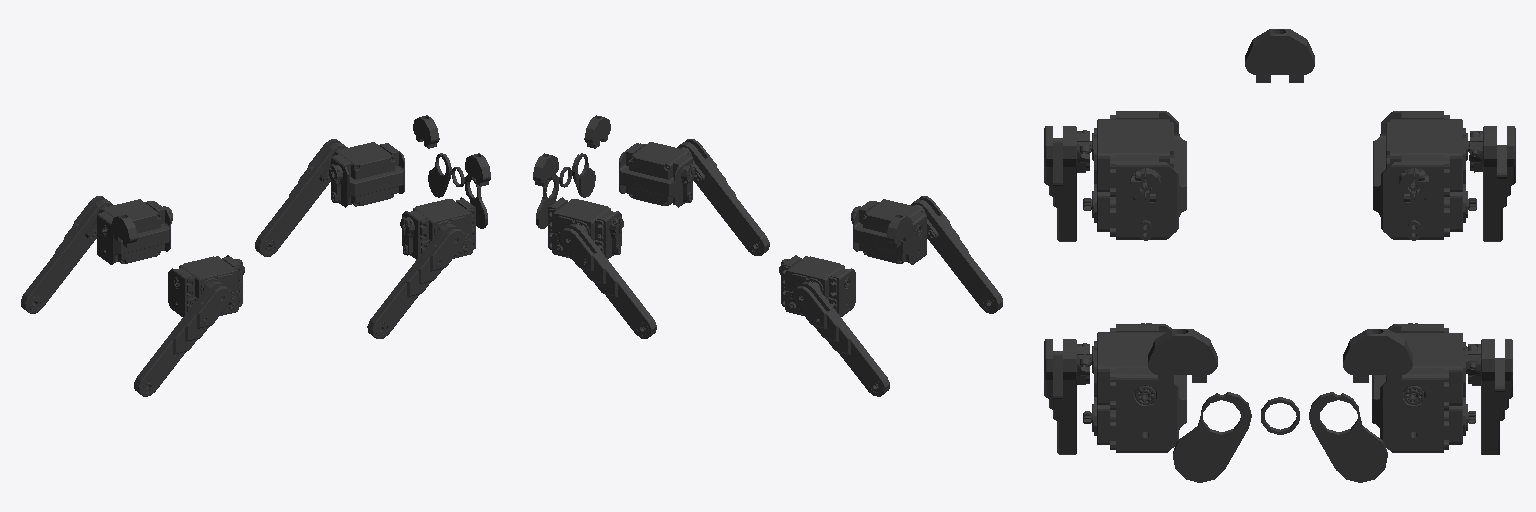
URDF robot description (rds-2p):
<robot name="rds-2p" version="1.0">
  <joint name="leg_block_bl_joint" type="revolute">
    <limit lower="-0.959931" upper="1.745329" effort="4.160000" velocity="8.700000"/>
    <origin rpy="1.570796 0.000000 1.570796" xyz="-0.135944 0.061964 0.002448"/>
    <parent link="base_link"/>
    <child link="leg_block_bl_link"/>
    <axis xyz="0.000000 0.000000 1.000000"/>
  </joint>
  <joint name="hip_bl_joint" type="revolute">
    <limit lower="-1.047200" upper="1.047200" effort="4.160000" velocity="8.700000"/>
    <origin rpy="1.570796 0.785398 -1.570796" xyz="0.031501 -0.000292 -0.008541"/>
    <parent link="leg_block_bl_link"/>
    <child link="hip_bl_link"/>
    <axis xyz="0.000000 0.000000 -1.000000"/>
  </joint>
  <joint name="shin_fl_joint" type="revolute">
    <limit lower="-1.134464" upper="0.523599" effort="4.160000" velocity="8.700000"/>
    <origin rpy="-0.000000 -0.000000 2.356194" xyz="-0.099981 0.000046 0.005059"/>
    <parent link="hip_fl_link"/>
    <child link="shin_fl_link"/>
    <axis xyz="0.000000 0.000000 1.000000"/>
  </joint>
  <joint name="foot_fl_joint" type="fixed">
    <origin rpy="-0.000000 -0.000000 -0.000000" xyz="0.072618 -0.072439 0.002894"/>
    <parent link="shin_fl_link"/>
    <child link="foot_fl_link"/>
  </joint>
  <joint name="leg_block_fr_joint" type="revolute">
    <limit lower="-1.745329" upper="0.959931" effort="4.160000" velocity="8.700000"/>
    <origin rpy="1.570796 0.000000 1.570796" xyz="0.098667 -0.062261 0.002451"/>
    <parent link="base_link"/>
    <child link="leg_block_fr_link"/>
    <axis xyz="0.000000 0.000000 1.000000"/>
  </joint>
  <joint name="hip_fr_joint" type="revolute">
    <limit lower="-1.047198" upper="1.047200" effort="4.160000" velocity="8.700000"/>
    <origin rpy="-1.570796 -0.000000 1.570796" xyz="-0.031718 0.000131 -0.009643"/>
    <parent link="leg_block_fr_link"/>
    <child link="hip_fr_link"/>
    <axis xyz="0.000000 0.000000 -1.000000"/>
  </joint>
  <joint name="shin_fr_joint" type="revolute">
    <limit lower="-1.134464" upper="0.523599" effort="4.160000" velocity="8.700000"/>
    <origin rpy="0.000000 0.000000 -2.356195" xyz="-0.070737 0.070711 0.004477"/>
    <parent link="hip_fr_link"/>
    <child link="shin_fr_link"/>
    <axis xyz="0.000000 0.000000 -1.000000"/>
  </joint>
  <joint name="foot_fr_joint" type="fixed">
    <origin rpy="-0.000000 0.000000 -0.785397" xyz="0.102834 -0.000040 0.000002"/>
    <parent link="shin_fr_link"/>
    <child link="foot_fr_link"/>
  </joint>
  <joint name="panda_visual_joint" type="fixed">
    <origin rpy="-0.000000 0.000000 1.570796" xyz="0.069342 -0.000054 0.020418"/>
    <parent link="base_link"/>
    <child link="panda_visual_link"/>
  </joint>
  <joint name="shin_bl_joint" type="revolute">
    <limit lower="-1.134464" upper="0.523599" effort="4.160000" velocity="8.700000"/>
    <origin rpy="3.141592 0.000000 -3.141592" xyz="0.100012 0.000035 0.004572"/>
    <parent link="hip_bl_link"/>
    <child link="shin_bl_link"/>
    <axis xyz="0.000000 0.000000 1.000000"/>
  </joint>
  <joint name="foot_bl_joint" type="fixed">
    <origin rpy="-0.000000 -0.000000 2.356195" xyz="0.000156 0.102417 0.008527"/>
    <parent link="shin_bl_link"/>
    <child link="foot_bl_link"/>
  </joint>
  <joint name="leg_block_br_joint" type="revolute">
    <limit lower="-1.745329" upper="0.959931" effort="4.160000" velocity="8.700000"/>
    <origin rpy="1.570796 0.000000 1.570796" xyz="-0.133924 -0.062262 0.002451"/>
    <parent link="base_link"/>
    <child link="leg_block_br_link"/>
    <axis xyz="0.000000 0.000000 1.000000"/>
  </joint>
  <joint name="hip_br_joint" type="revolute">
    <limit lower="-1.047200" upper="1.047200" effort="4.160000" velocity="8.700000"/>
    <origin rpy="-1.570796 -0.785398 1.570796" xyz="-0.031717 -0.000295 -0.010561"/>
    <parent link="leg_block_br_link"/>
    <child link="hip_br_link"/>
    <axis xyz="0.000000 0.000000 -1.000000"/>
  </joint>
  <joint name="shin_br_joint" type="revolute">
    <limit lower="-1.134464" upper="0.523599" effort="4.160000" velocity="8.700000"/>
    <origin rpy="0.000000 -0.000000 -1.570797" xyz="-0.100133 0.000005 0.004477"/>
    <parent link="hip_br_link"/>
    <child link="shin_br_link"/>
    <axis xyz="0.000000 0.000000 -1.000000"/>
  </joint>
  <joint name="foot_br_joint" type="fixed">
    <origin rpy="-0.000000 0.000000 -0.785398" xyz="0.102457 0.000276 0.000002"/>
    <parent link="shin_br_link"/>
    <child link="foot_br_link"/>
  </joint>
  <joint name="leg_block_fl_joint" type="revolute">
    <limit lower="-0.959931" upper="1.745329" effort="4.160000" velocity="8.700000"/>
    <origin rpy="-0.000000 -1.570796 0.000000" xyz="0.098579 0.061964 0.002449"/>
    <parent link="base_link"/>
    <child link="leg_block_fl_link"/>
    <axis xyz="0.000000 0.000000 -1.000000"/>
  </joint>
  <joint name="hip_fl_joint" type="revolute">
    <limit lower="-1.047200" upper="1.047200" effort="4.160000" velocity="8.700000"/>
    <origin rpy="-1.570796 0.785398 0.000000" xyz="0.000001 0.030541 0.009353"/>
    <parent link="leg_block_fl_link"/>
    <child link="hip_fl_link"/>
    <axis xyz="0.000000 0.000000 1.000000"/>
  </joint>
  <link name="base_link">
    <sensor name="camera" type="camera">
      <origin rpy="1.570796 0.000000 1.570796" xyz="0.152412 0.002539 0.004207"/>
      <parent link="base_link"/>
      <camera>
        <image>
          <width>640</width>
          <height>480</height>
          <hfov>1.570796</hfov>
        </image>
      </camera>
    </sensor>
    <collision name="base_collision">
      <origin rpy="-0.000000 0.000000 -1.570796" xyz="-0.017626 -0.000162 -0.007849"/>
      <geometry>
        <mesh filename="../meshes/dae/base.dae" scale="1 1 1"/>
      </geometry>
    </collision>
    <sensor name="imu" type="imu">
      <parent link="base_link"/>
    </sensor>
    <inertial>
      <inertia ixx="0.002168" ixy="0.000055" ixz="0.000034" iyy="0.014482" iyz="0.000006" izz="0.015817"/>
      <origin rpy="0.000000 0.000000 0.000000" xyz="-0.007317 -0.000191 -0.004098"/>
      <mass value="1.522000"/>
    </inertial>
    <visual name="base">
      <material name="App0.003"/>
      <origin rpy="-0.000000 -0.000000 -1.570797" xyz="-0.017626 -0.000162 -0.007849"/>
      <geometry>
        <mesh filename="../meshes/dae/base.dae" scale="1 1 1"/>
      </geometry>
    </visual>
  </link>
  <link name="leg_block_bl_link">
    <collision name="leg_block_bl_collision">
      <origin rpy="1.570796 -0.000000 0.000000" xyz="0.001694 -0.010052 0.002505"/>
      <geometry>
        <mesh filename="../meshes/dae/leg_block_bl.dae" scale="1 1 1"/>
      </geometry>
    </collision>
    <inertial>
      <inertia ixx="0.000062" ixy="-0.000002" ixz="-0.000002" iyy="0.000070" iyz="-0.000001" izz="0.000095"/>
      <origin rpy="0.000000 0.000000 0.000000" xyz="0.003043 -0.010057 0.002359"/>
      <mass value="0.193000"/>
    </inertial>
    <visual name="leg_block_bl">
      <material name="App0.010"/>
      <origin rpy="1.570796 0.000000 0.000000" xyz="0.001694 -0.010052 0.002505"/>
      <geometry>
        <mesh filename="../meshes/dae/leg_block_bl.dae" scale="1 1 1"/>
      </geometry>
    </visual>
  </link>
  <link name="hip_fl_link">
    <collision name="hip_fl_collision">
      <origin rpy="0.000000 -0.000000 -0.000000" xyz="-0.000000 -0.000000 -0.000000"/>
      <geometry>
        <mesh filename="../meshes/dae/hip_fl.dae" scale="1 1 1"/>
      </geometry>
    </collision>
    <inertial>
      <inertia ixx="0.000035" ixy="-0.000001" ixz="0.000001" iyy="0.000018" iyz="0.000017" izz="0.000018"/>
      <origin rpy="0.000000 0.000000 0.000000" xyz="-0.042963 -0.000022 0.004941"/>
      <mass value="0.023000"/>
    </inertial>
    <visual name="hip_fl">
      <material name="App0.010"/>
      <origin rpy="-0.000000 -0.000000 0.000000" xyz="0.000000 -0.000000 -0.000000"/>
      <geometry>
        <mesh filename="../meshes/dae/hip_fl.dae" scale="1 1 1"/>
      </geometry>
    </visual>
  </link>
  <link name="shin_fl_link">
    <collision name="shin_fl_collision">
      <origin rpy="3.141593 0.000000 2.356194" xyz="-0.000000 0.000000 -0.000000"/>
      <geometry>
        <mesh filename="../meshes/dae/shin_fl.dae" scale="1 1 1"/>
      </geometry>
    </collision>
    <inertial>
      <inertia ixx="0.000092" ixy="0.000003" ixz="0.000004" iyy="0.000054" iyz="-0.000044" izz="0.000045"/>
      <origin rpy="0.000000 0.000000 0.000000" xyz="0.032975 -0.034987 -0.000398"/>
      <mass value="0.049000"/>
    </inertial>
    <visual name="shin_fl">
      <material name="App0.010"/>
      <origin rpy="-3.141593 0.000000 2.356194" xyz="-0.000000 0.000000 0.000000"/>
      <geometry>
        <mesh filename="../meshes/dae/shin_fl.dae" scale="1 1 1"/>
      </geometry>
    </visual>
  </link>
  <link name="foot_fl_link">
    <collision name="foot_fl_collusion">
      <origin rpy="-0.000000 0.000000 -0.000000" xyz="0.000000 0.000000 -0.002895"/>
      <geometry>
        <cylinder radius="0.012816" length="0.019799"/>
      </geometry>
    </collision>
  </link>
  <link name="leg_block_fr_link">
    <collision name="leg_block_fr_collision">
      <origin rpy="-1.570796 0.000000 -3.141592" xyz="-0.001909 -0.009600 -0.000400"/>
      <geometry>
        <mesh filename="../meshes/dae/leg_block_fr.dae" scale="1 1 1"/>
      </geometry>
    </collision>
    <inertial>
      <inertia ixx="0.000062" ixy="-0.000002" ixz="0.000002" iyy="0.000070" iyz="-0.000001" izz="0.000095"/>
      <origin rpy="0.000000 0.000000 0.000000" xyz="-0.003258 -0.009610 -0.000275"/>
      <mass value="0.193000"/>
    </inertial>
    <visual name="leg_block_fr">
      <material name="App0.010"/>
      <origin rpy="-1.570796 -0.000000 -3.141592" xyz="-0.001909 -0.009600 -0.000400"/>
      <geometry>
        <mesh filename="../meshes/dae/leg_block_fr.dae" scale="1 1 1"/>
      </geometry>
    </visual>
  </link>
  <link name="hip_fr_link">
    <collision name="hip_fr_collision">
      <origin rpy="0.000000 -0.000000 -0.785398" xyz="-0.000000 0.000000 0.000000"/>
      <geometry>
        <mesh filename="../meshes/dae/hip_fr.dae" scale="1 1 1"/>
      </geometry>
    </collision>
    <inertial>
      <inertia ixx="0.000035" ixy="0.000001" ixz="-0.000001" iyy="0.000018" iyz="0.000017" izz="0.000018"/>
      <origin rpy="0.000000 0.000000 0.000000" xyz="-0.030395 0.030364 0.004941"/>
      <mass value="0.023000"/>
    </inertial>
    <visual name="hip_fr">
      <material name="App0.010"/>
      <origin rpy="0.000000 -0.000000 -0.785398" xyz="-0.000000 0.000000 -0.000000"/>
      <geometry>
        <mesh filename="../meshes/dae/hip_fr.dae" scale="1 1 1"/>
      </geometry>
    </visual>
  </link>
  <link name="shin_fr_link">
    <collision name="shin_fr_collision">
      <origin rpy="0.000000 0.000000 -3.141592" xyz="0.000000 -0.000000 -0.000000"/>
      <geometry>
        <mesh filename="../meshes/dae/shin_fr.dae" scale="1 1 1"/>
      </geometry>
    </collision>
    <inertial>
      <inertia ixx="0.000092" ixy="0.000003" ixz="0.000004" iyy="0.000054" iyz="-0.000044" izz="0.000045"/>
      <origin rpy="0.000000 0.000000 0.000000" xyz="0.048057 0.001422 0.000398"/>
      <mass value="0.049000"/>
    </inertial>
    <visual name="shin_fr">
      <material name="App0.010"/>
      <origin rpy="0.000000 -0.000000 -3.141592" xyz="0.000000 0.000000 -0.000000"/>
      <geometry>
        <mesh filename="../meshes/dae/shin_fr.dae" scale="1 1 1"/>
      </geometry>
    </visual>
  </link>
  <link name="foot_fr_link">
    <collision name="foot_fr_collusion">
      <origin rpy="-3.141592 -0.000000 -0.000000" xyz="-0.000000 0.000000 -0.000000"/>
      <geometry>
        <cylinder radius="0.012816" length="0.019799"/>
      </geometry>
    </collision>
  </link>
  <link name="panda_visual_link">
    <visual name="panda_visual">
      <material name="App0.010"/>
      <origin rpy="0.000000 -0.000000 0.000000" xyz="-0.000000 0.000000 0.000000"/>
      <geometry>
        <mesh filename="../meshes/dae/panda_visual.dae" scale="1 1 1"/>
      </geometry>
    </visual>
  </link>
  <link name="hip_bl_link">
    <collision name="hip_bl_collision">
      <origin rpy="3.141592 0.000001 3.141592" xyz="0.000000 -0.000000 0.000000"/>
      <geometry>
        <mesh filename="../meshes/dae/hip_bl.dae" scale="1 1 1"/>
      </geometry>
    </collision>
    <inertial>
      <inertia ixx="0.000035" ixy="-0.000001" ixz="0.000001" iyy="0.000018" iyz="0.000017" izz="0.000018"/>
      <origin rpy="0.000000 0.000000 0.000000" xyz="0.042963 -0.000022 -0.004941"/>
      <mass value="0.023000"/>
    </inertial>
    <visual name="hip_bl">
      <material name="App0.010"/>
      <origin rpy="3.141593 -0.000000 3.141591" xyz="0.000000 0.000000 0.000000"/>
      <geometry>
        <mesh filename="../meshes/dae/hip_bl.dae" scale="1 1 1"/>
      </geometry>
    </visual>
  </link>
  <link name="shin_bl_link">
    <collision name="shin_bl_collision">
      <origin rpy="3.130172 0.000000 -1.570793" xyz="0.000000 0.000000 0.008671"/>
      <geometry>
        <mesh filename="../meshes/dae/shin_bl.dae" scale="1 1 1"/>
      </geometry>
    </collision>
    <inertial>
      <inertia ixx="0.000092" ixy="0.000003" ixz="0.000004" iyy="0.000054" iyz="-0.000044" izz="0.000045"/>
      <origin rpy="0.000000 0.000000 0.000000" xyz="0.001418 0.048057 0.008256"/>
      <mass value="0.049000"/>
    </inertial>
    <visual name="shin_bl">
      <material name="App0.010"/>
      <origin rpy="3.141593 0.000000 -1.570794" xyz="0.000000 0.000000 0.008671"/>
      <geometry>
        <mesh filename="../meshes/dae/shin_bl.dae" scale="1 1 1"/>
      </geometry>
    </visual>
  </link>
  <link name="foot_bl_link">
    <collision name="foot_bl_collusion">
      <origin rpy="-0.000000 0.000000 -0.000000" xyz="-0.000000 0.000000 -0.000000"/>
      <geometry>
        <cylinder radius="0.012816" length="0.019799"/>
      </geometry>
    </collision>
  </link>
  <link name="leg_block_br_link">
    <collision name="leg_block_br_collision">
      <origin rpy="-1.570796 0.000000 -0.000000" xyz="-0.004218 -0.010309 -0.000000"/>
      <geometry>
        <mesh filename="../meshes/dae/leg_block_br.dae" scale="1 1 1"/>
      </geometry>
    </collision>
    <inertial>
      <inertia ixx="0.000062" ixy="0.000002" ixz="0.000002" iyy="0.000070" iyz="-0.000001" izz="0.000095"/>
      <origin rpy="0.000000 0.000000 0.000000" xyz="-0.003255 -0.010060 0.000339"/>
      <mass value="0.193000"/>
    </inertial>
    <visual name="leg_block_br">
      <material name="App0.010"/>
      <origin rpy="-1.570796 0.000000 0.000000" xyz="-0.004218 -0.010309 -0.000000"/>
      <geometry>
        <mesh filename="../meshes/dae/leg_block_br.dae" scale="1 1 1"/>
      </geometry>
    </visual>
  </link>
  <link name="hip_br_link">
    <collision name="hip_br_collision">
      <origin rpy="-0.000000 0.000000 -0.000000" xyz="0.000000 0.000000 0.000000"/>
      <geometry>
        <mesh filename="../meshes/dae/hip_br.dae" scale="1 1 1"/>
      </geometry>
    </collision>
    <inertial>
      <inertia ixx="0.000035" ixy="0.000001" ixz="-0.000001" iyy="0.000018" iyz="0.000017" izz="0.000018"/>
      <origin rpy="0.000000 0.000000 0.000000" xyz="-0.042963 -0.000022 0.004941"/>
      <mass value="0.023000"/>
    </inertial>
    <visual name="hip_br">
      <material name="App0.010"/>
      <origin rpy="-0.000000 -0.000000 0.000000" xyz="-0.000000 0.000000 -0.000000"/>
      <geometry>
        <mesh filename="../meshes/dae/hip_br.dae" scale="1 1 1"/>
      </geometry>
    </visual>
  </link>
  <link name="shin_br_link">
    <collision name="shin_br_collision">
      <origin rpy="0.000000 0.000000 -3.141592" xyz="0.000000 0.000000 -0.000000"/>
      <geometry>
        <mesh filename="../meshes/dae/shin_br.dae" scale="1 1 1"/>
      </geometry>
    </collision>
    <inertial>
      <inertia ixx="0.000092" ixy="0.000003" ixz="0.000004" iyy="0.000054" iyz="-0.000044" izz="0.000045"/>
      <origin rpy="0.000000 0.000000 0.000000" xyz="0.048057 0.001422 0.000398"/>
      <mass value="0.049000"/>
    </inertial>
    <visual name="shin_br">
      <material name="App0.010"/>
      <origin rpy="0.000000 -0.000000 3.141592" xyz="-0.000000 -0.000000 -0.000000"/>
      <geometry>
        <mesh filename="../meshes/dae/shin_br.dae" scale="1 1 1"/>
      </geometry>
    </visual>
  </link>
  <link name="foot_br_link">
    <collision name="foot_br_collusion">
      <origin rpy="-3.141592 -0.000000 -0.000000" xyz="0.000000 0.000000 0.000000"/>
      <geometry>
        <cylinder radius="0.012816" length="0.019799"/>
      </geometry>
    </collision>
  </link>
  <link name="leg_block_fl_link">
    <collision name="leg_block_fl_collision">
      <origin rpy="-1.570797 -0.000000 0.000000" xyz="-0.009632 0.001547 0.000477"/>
      <geometry>
        <mesh filename="../meshes/dae/leg_block_fl.dae" scale="1 1 1"/>
      </geometry>
    </collision>
    <inertial>
      <inertia ixx="0.000062" ixy="0.000002" ixz="-0.000002" iyy="0.000070" iyz="-0.000001" izz="0.000094"/>
      <origin rpy="0.000000 0.000000 0.000000" xyz="-0.009629 0.002871 0.000273"/>
      <mass value="0.193000"/>
    </inertial>
    <visual name="leg_block_fl">
      <material name="App0.010"/>
      <origin rpy="-1.570796 0.000000 -0.000000" xyz="-0.009632 0.001547 0.000477"/>
      <geometry>
        <mesh filename="../meshes/dae/leg_block_fl.dae" scale="1 1 1"/>
      </geometry>
    </visual>
  </link>
  <material name="App0.003">
    <color rgba="0.800000 0.800000 0.800000 1.000000"/>
  </material>
  <material name="App0.010">
    <color rgba="0.282353 0.282353 0.282353 1.000000"/>
  </material>
</robot>

--- Facts derived from the render (not from the file) ---
The picture shows the robot from 3 angles, left to right: view 1: azimuth 30°, elevation 25°; view 2: azimuth 150°, elevation 25°; view 3: azimuth 270°, elevation 25°; orthographic projection.
Model rds-2p with 18 links and 17 joints (12 revolute, 5 fixed), rooted at base_link, posed every joint at zero.
Links seen in each view (by area): view 1: leg_block_fl_link, leg_block_bl_link, hip_br_link, hip_fr_link, panda_visual_link, hip_bl_link, hip_fl_link, leg_block_br_link, leg_block_fr_link; view 2: leg_block_fr_link, leg_block_br_link, hip_bl_link, hip_fl_link, panda_visual_link, hip_br_link, hip_fr_link, leg_block_bl_link, leg_block_fl_link; view 3: panda_visual_link, leg_block_bl_link, leg_block_br_link, leg_block_fr_link, leg_block_fl_link, hip_br_link, hip_fr_link, hip_bl_link, hip_fl_link.
Boxes of the visible links, x1,y1,x2,y2 form: leg_block_fl_link: (329,142,404,207); leg_block_bl_link: (97,199,172,264); hip_br_link: (134,281,231,396); hip_fr_link: (367,223,465,338); panda_visual_link: (111,115,490,247); hip_bl_link: (21,196,112,313); hip_fl_link: (255,139,347,256); leg_block_br_link: (168,255,244,316); leg_block_fr_link: (400,197,475,259); leg_block_fr_link: (619,142,694,207); leg_block_br_link: (851,199,926,264); hip_bl_link: (792,281,889,396); hip_fl_link: (559,223,656,338); panda_visual_link: (533,115,912,247); hip_br_link: (911,196,1002,313); hip_fr_link: (677,139,769,255); leg_block_bl_link: (779,255,855,316); leg_block_fl_link: (548,197,623,258); panda_visual_link: (1148,29,1412,482); leg_block_bl_link: (1373,111,1476,240); leg_block_br_link: (1083,111,1186,240); leg_block_fr_link: (1083,323,1186,452); leg_block_fl_link: (1372,323,1475,452); hip_br_link: (1044,126,1089,241); hip_fr_link: (1044,339,1089,454); hip_bl_link: (1469,126,1515,241); hip_fl_link: (1467,339,1512,454).
Size in the robot's own frame: 0.3804 by 0.2174 by 0.1229 metres.
9 mesh visuals loaded from 14 distinct referenced files (9 Collada DAE); not drawn: 5 (reference not matched to a file when rendering).
